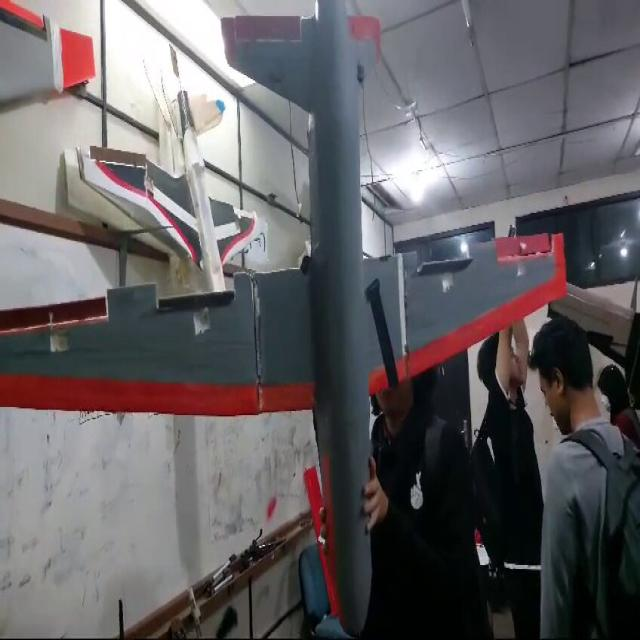plane: (0, 0, 568, 637)
